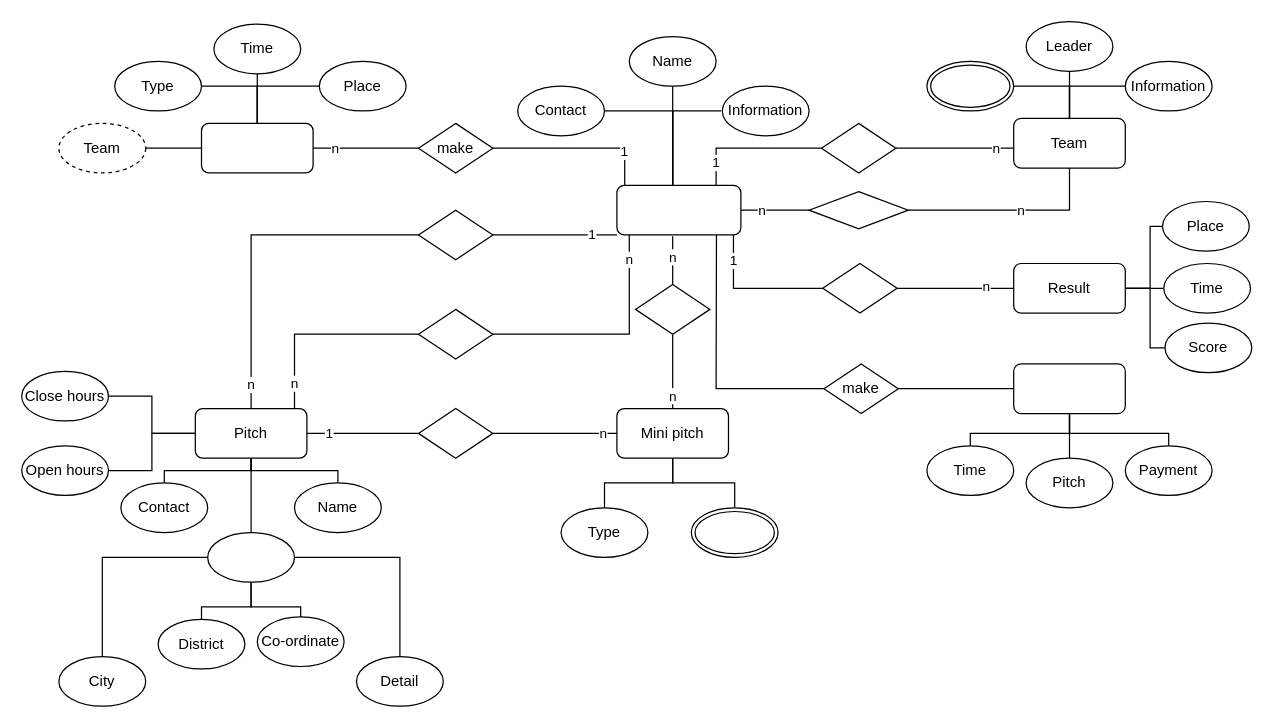
Some shapes in this 1273 by 728 pixel diagram are drawn without their labels. The centre of each missing label's shape, as x and y in pixels:
"Address" belongs at point (250, 556).
"belong to" belongs at point (858, 209).
"Booking" belongs at point (1068, 388).
"confirm" belongs at point (859, 287).
"has" belongs at point (455, 432).
"Invitation" belongs at point (256, 147).
"is leader" belongs at point (858, 147).
"is owner" belongs at point (455, 234).
"Member" belongs at point (970, 85).
"play" belongs at point (672, 308).
"Price" belongs at point (734, 532).
"review" belongs at point (455, 333).
"User" belongs at point (678, 209).
